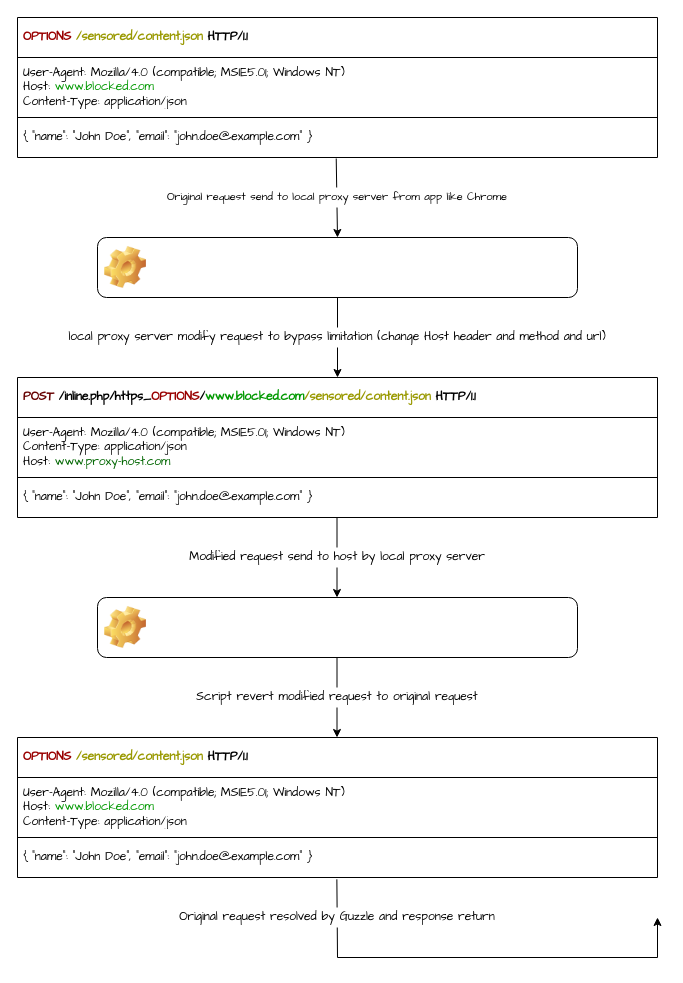
This 683x983 diagram has some shape labels left out. The shapes that lost their labels are listed below. From the top down, each one's centre as x and y in pixels, then its label:
At pixel 337 267: "Local Proxy Server run MitmProxy with addons.py script".
At pixel 337 627: "PHP shared host http-proxy script that published on host".
